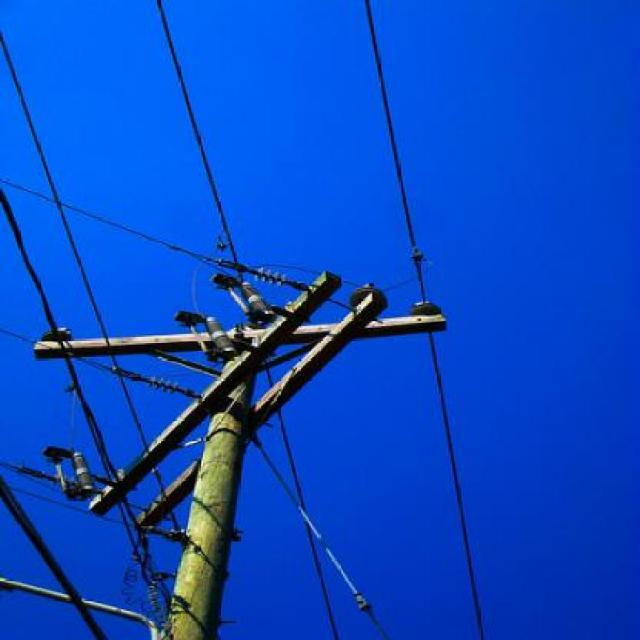pole: (21, 160, 412, 640)
